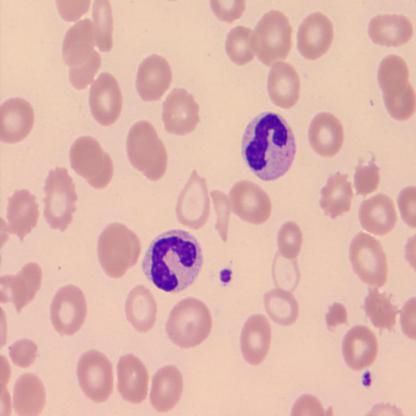Band Neutrophil: (139, 225, 208, 296), (239, 108, 298, 182)
